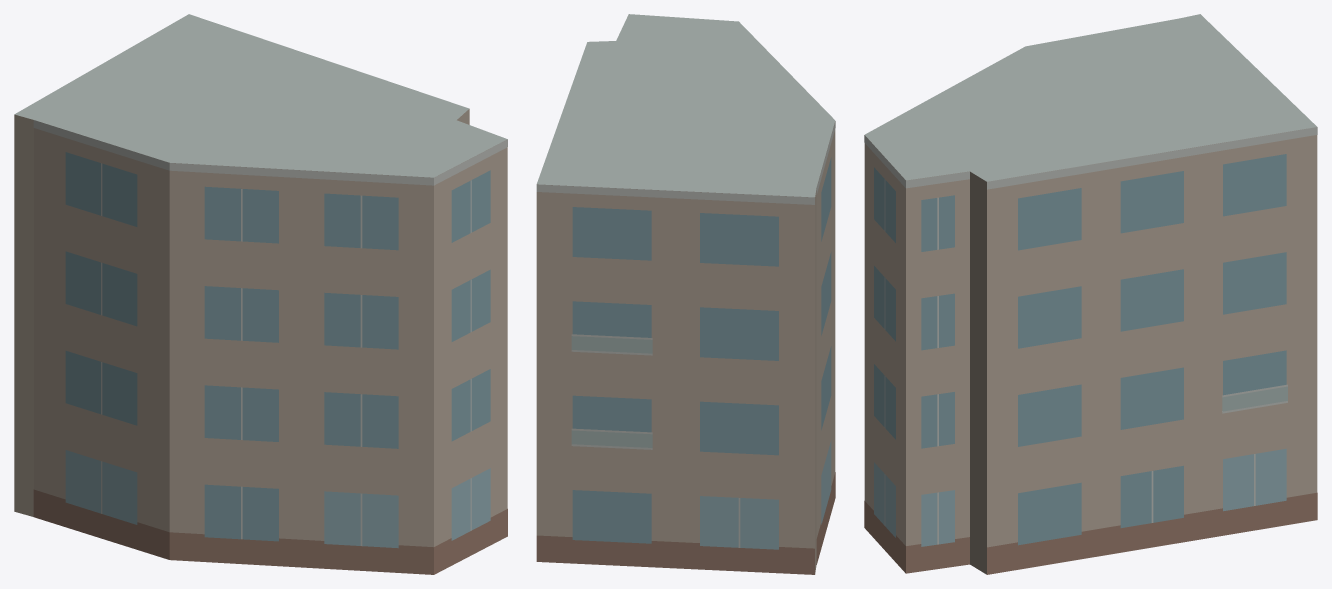
Rendered from survey-upis-32836381.glb.
3 views of the same model, side by side, from view 1: azimuth 30°, elevation 25°; view 2: azimuth 150°, elevation 25°; view 3: azimuth 270°, elevation 25° (orthographic). The views are drawn at different scales.
Visible parts, largest first — view 1: survey-upis-32836381.tmp; view 2: survey-upis-32836381.tmp; view 3: survey-upis-32836381.tmp.
Boxes of the visible parts, x1,y1,x2,y2 form: survey-upis-32836381.tmp: (14,14,507,574); survey-upis-32836381.tmp: (536,14,835,574); survey-upis-32836381.tmp: (864,14,1317,574).
Size of the model in its own units: 11.18 by 12.2 by 12.75.
